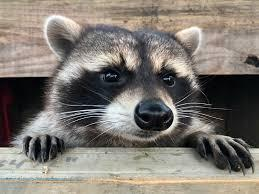raccoon: (0, 5, 259, 192)
